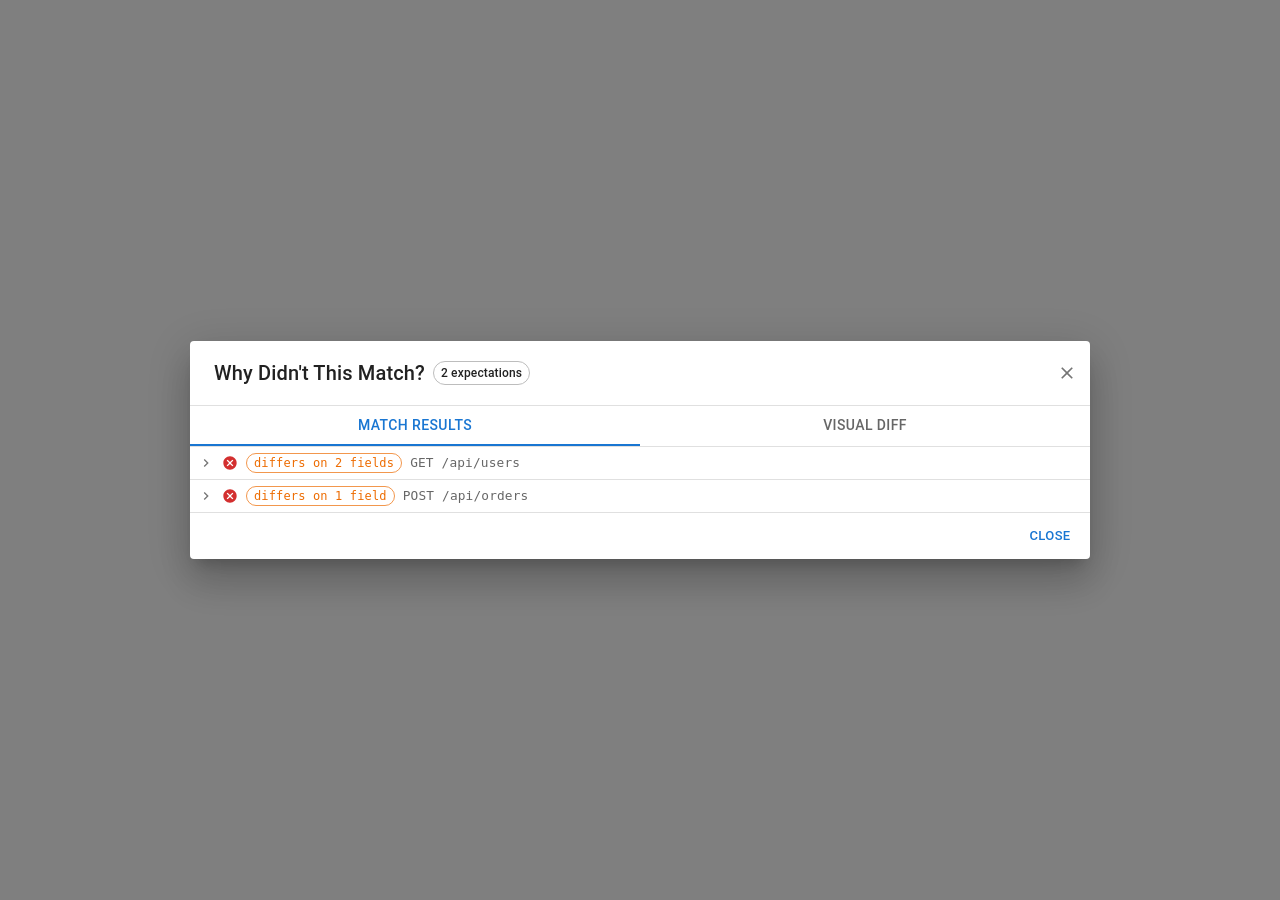
DebugMismatchDialog › Visual diff tab › falls back to the best-scoring candidate when there is no closest match
This screenshot has width=1280, height=900.
What coordinates should you click on to do the following:
click the tab "Visual Diff"
I would click on:
 (865, 426)
Its box is [640,406,1090,446].
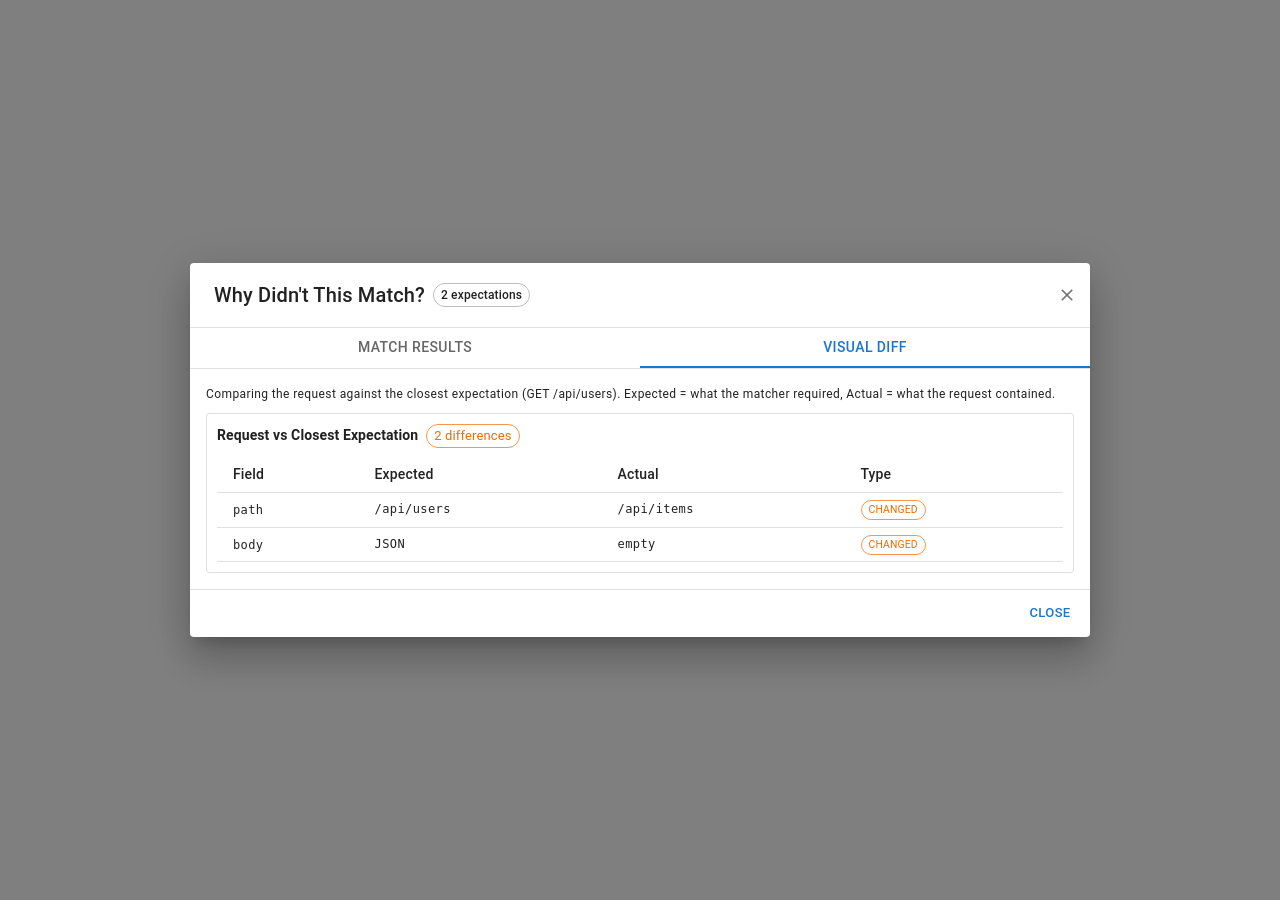
Now the text "path" is shown, box [233,503,264,517]
